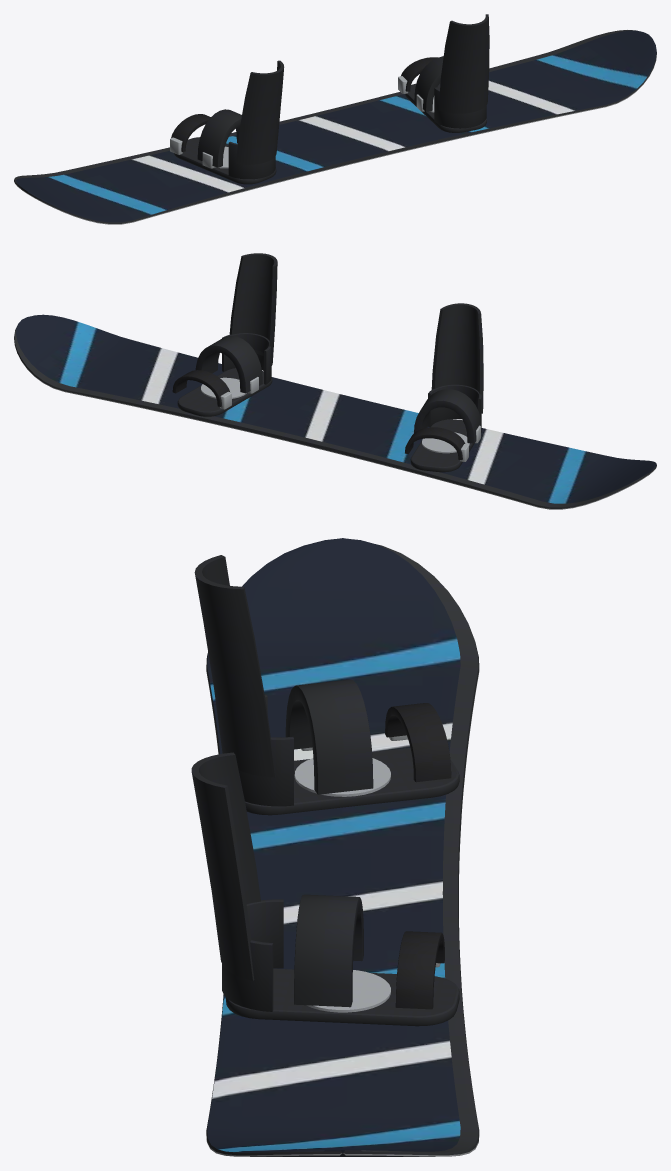
Rendered from snowboard.glb.
3 views of the same model, one above another, from view 1: azimuth 30°, elevation 25°; view 2: azimuth 150°, elevation 25°; view 3: azimuth 270°, elevation 25° (orthographic). The views are drawn at different scales.
Parts seen in each view (by area): view 1: Snowboard.001, Bindings; view 2: Snowboard.001, Bindings; view 3: Snowboard.001, Bindings.
Boxes of the visible parts, left/top/right/bottom form: Snowboard.001: left=14, top=30, right=656, bottom=224; Bindings: left=170, top=14, right=489, bottom=184; Snowboard.001: left=14, top=314, right=656, bottom=509; Bindings: left=172, top=253, right=483, bottom=472; Snowboard.001: left=206, top=538, right=479, bottom=1156; Bindings: left=191, top=555, right=459, bottom=1026.
Size of the model in its own units: 1.56 by 0.2786 by 0.3103.
8 materials, 8 textured.
